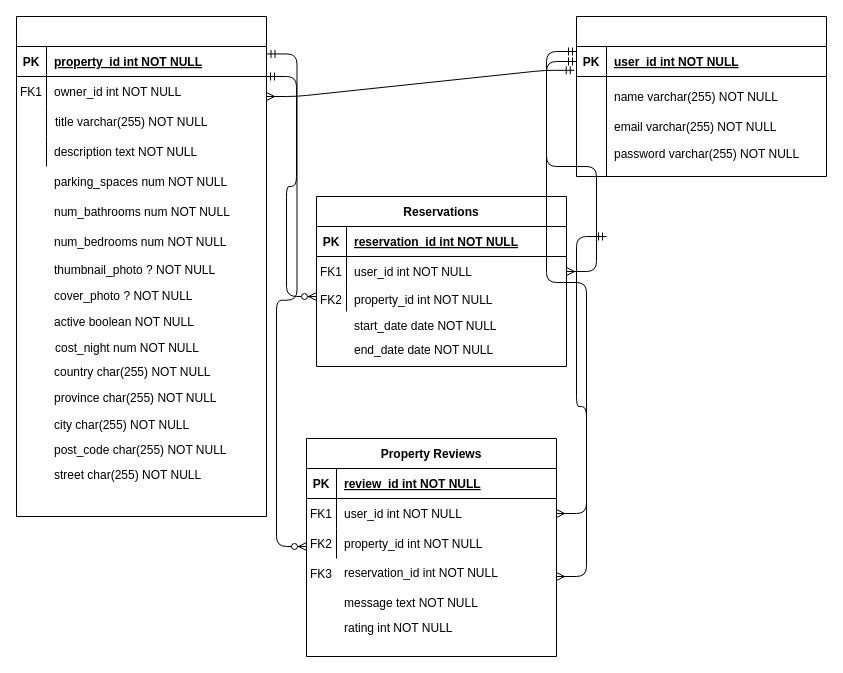
This 843x673 diagram has some shape labels left out. The shapes that lost their labels are listed below. From the top down, each one's box as (x1, y1, x2, y2) in pixels, then its label:
(576, 16, 826, 176): Users
(16, 16, 266, 516): Properties
